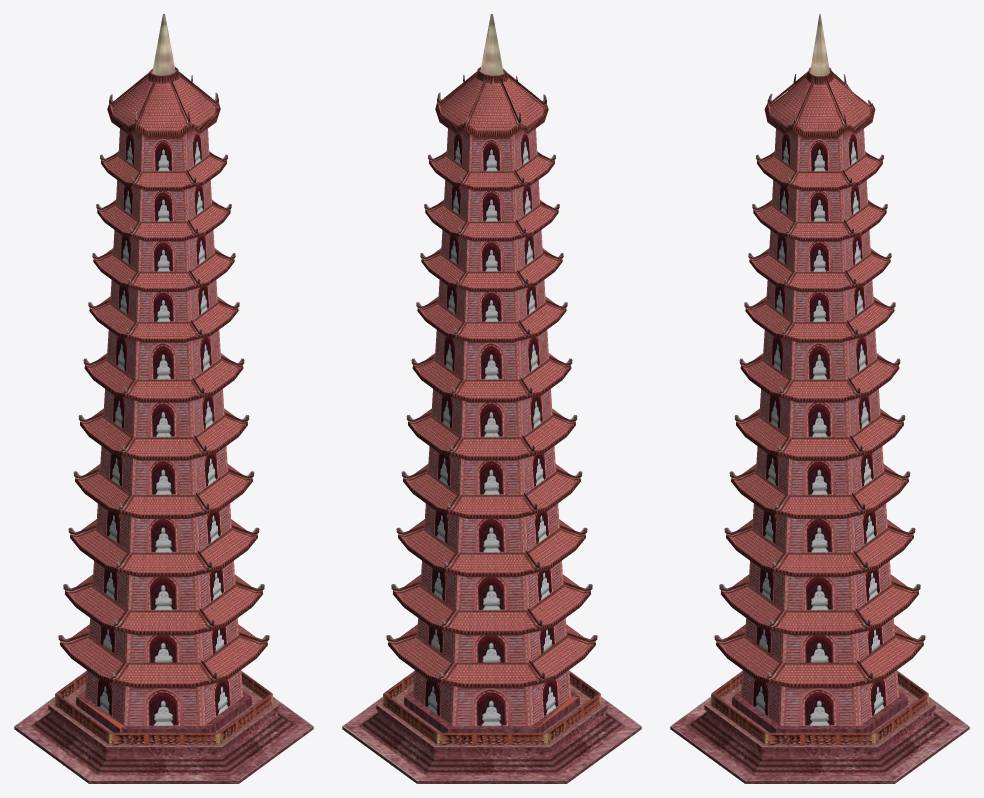
3 views of the same model, side by side, from view 1: azimuth 30°, elevation 25°; view 2: azimuth 150°, elevation 25°; view 3: azimuth 270°, elevation 25° (orthographic).
Parts seen in each view (by area): view 1: 5dd664047072cc1bd409fcd4; view 2: 5dd664047072cc1bd409fcd4; view 3: 5dd664047072cc1bd409fcd4.
Part boxes in pixels (x1,y1,x2,y2): 5dd664047072cc1bd409fcd4: (14,14,313,783); 5dd664047072cc1bd409fcd4: (342,14,641,783); 5dd664047072cc1bd409fcd4: (670,14,969,783).
Bounding box in the file's own units: 6.75 × 20.52 × 7.79.
Materials: 1 (1 with a texture image).
